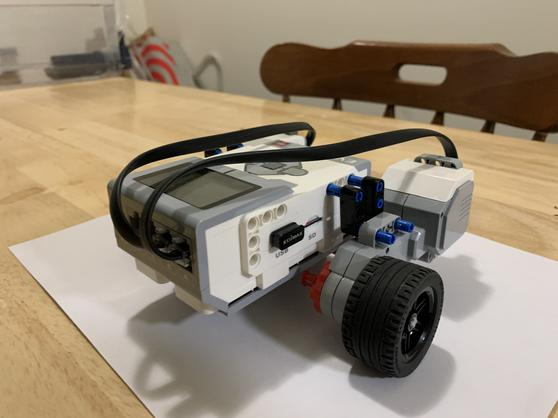robot: (101, 114, 485, 385)
